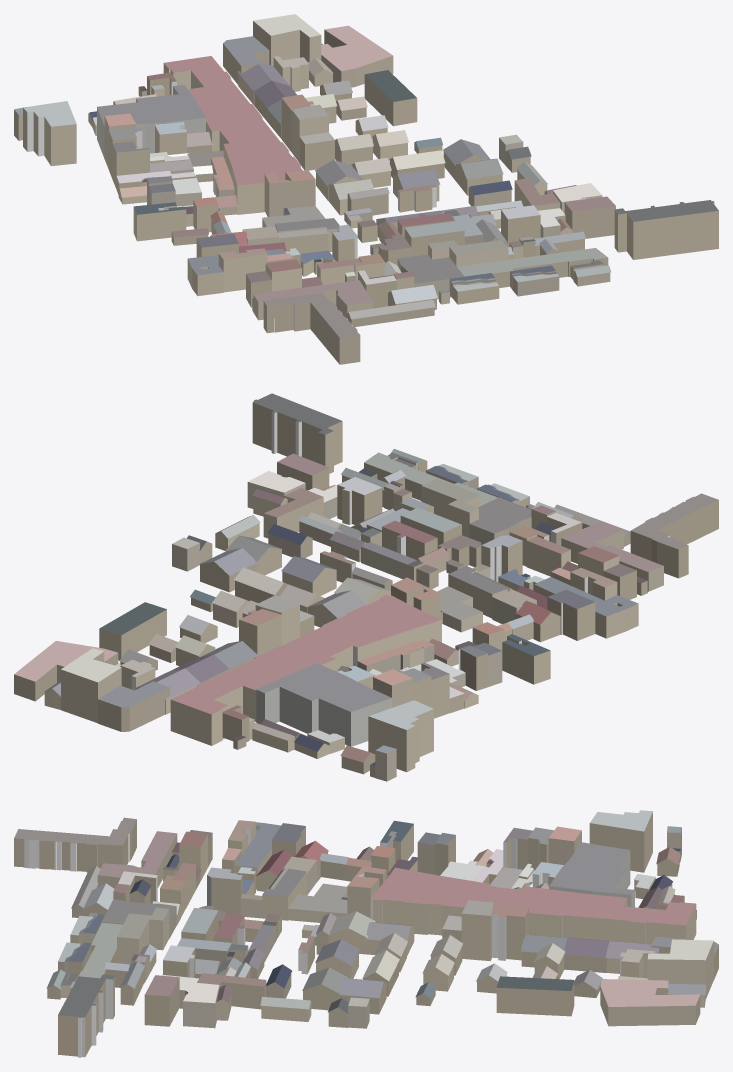
3 renders of one model, top to bottom at view 1: azimuth 30°, elevation 25°; view 2: azimuth 150°, elevation 25°; view 3: azimuth 270°, elevation 25°, orthographic. The views are drawn at different scales.
Visible parts, largest first — view 1: tuile; view 2: tuile; view 3: tuile.
Part boxes in pixels (box(x1,y1,x2,y2)): tuile: box(14, 14, 718, 364); tuile: box(14, 393, 718, 781); tuile: box(14, 810, 718, 1057).
Size of the model in its own units: 206 by 21.56 by 276.
